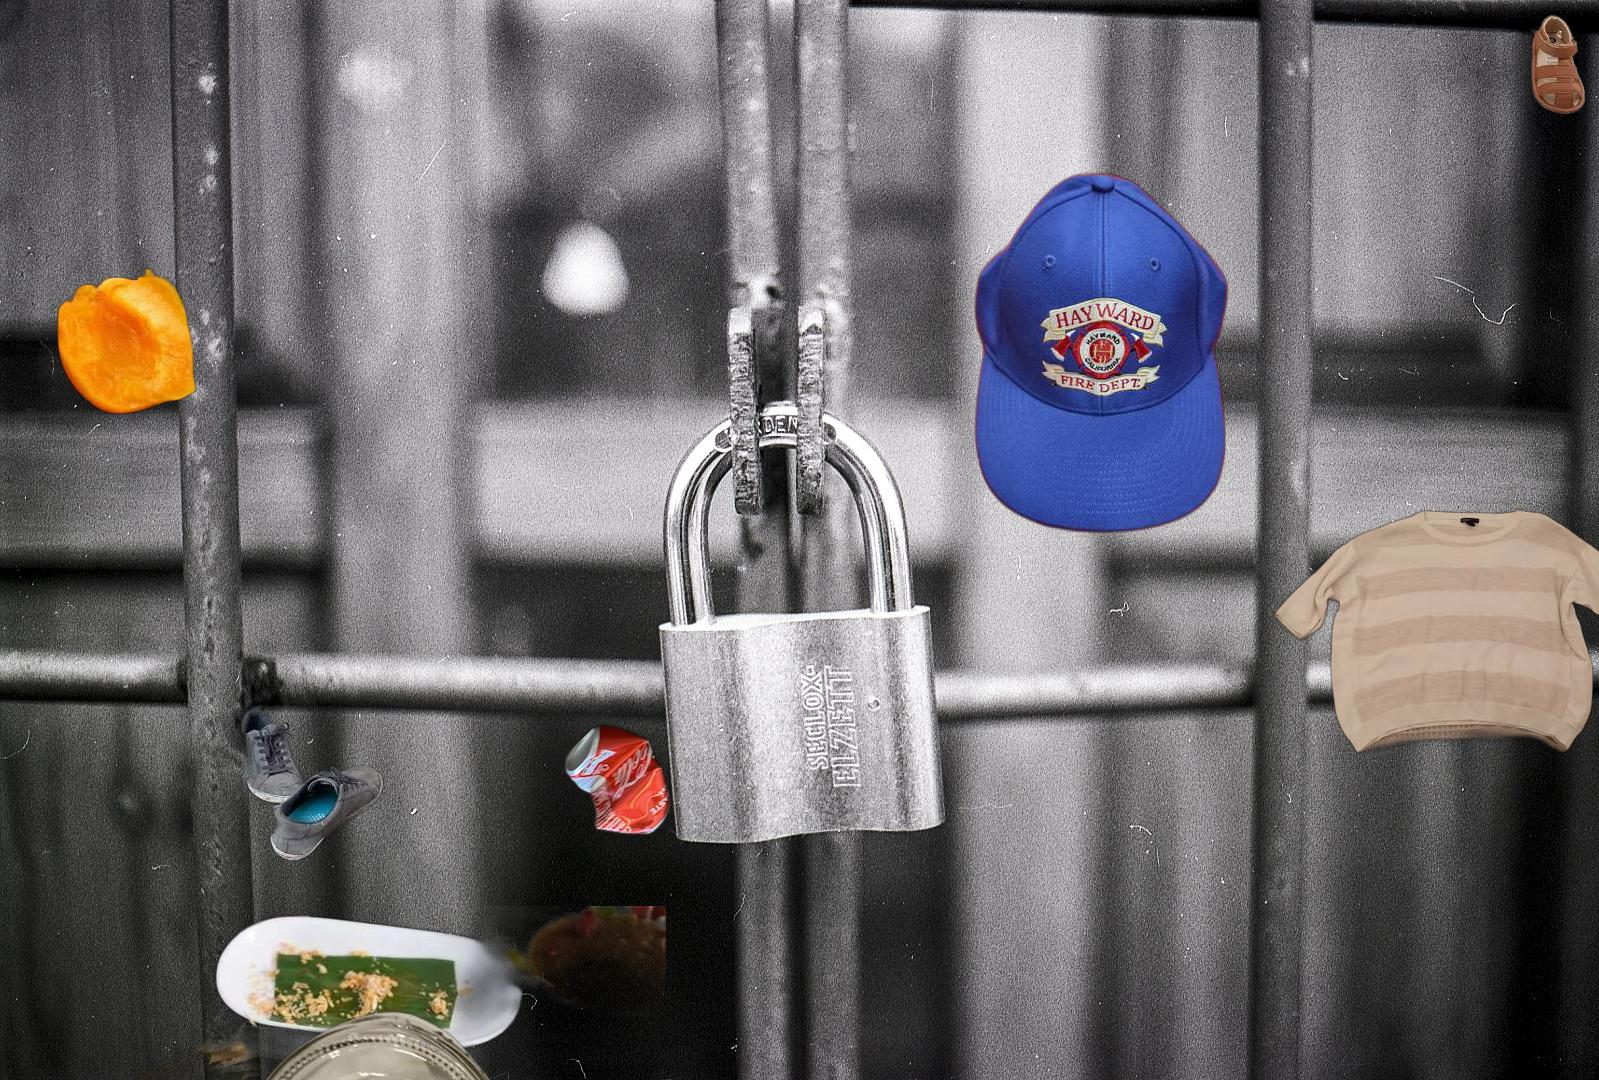biological: (101, 906, 666, 1080), (54, 262, 201, 424)
clothes: (971, 169, 1231, 538), (1271, 505, 1599, 757)
glass: (233, 1008, 533, 1080)
metal-cans: (560, 720, 676, 841)
shoes: (239, 702, 387, 859), (1528, 12, 1588, 117)
